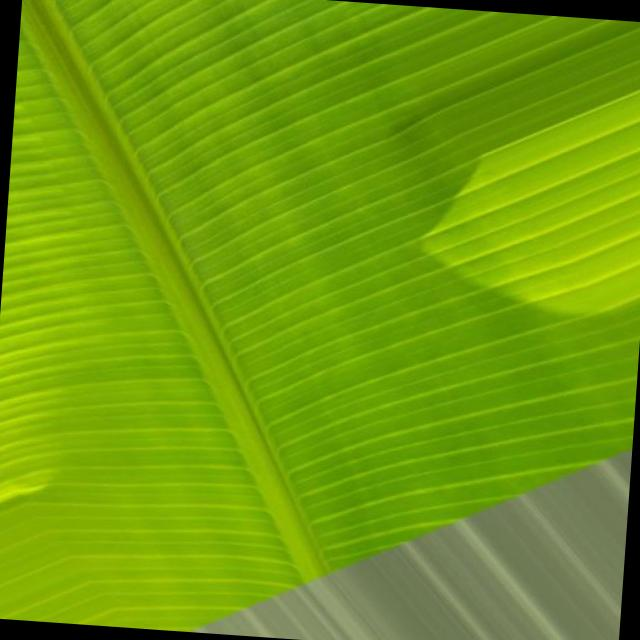Banana_Healthy: (70, 70, 531, 443)
